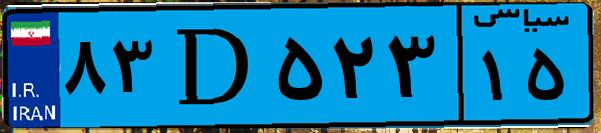1: (475, 38, 525, 113)
2: (330, 28, 385, 110)
3: (385, 28, 445, 110), (110, 28, 158, 98)
5: (270, 28, 330, 110), (525, 38, 570, 115)
8: (57, 26, 110, 100)
D: (158, 12, 270, 120)
